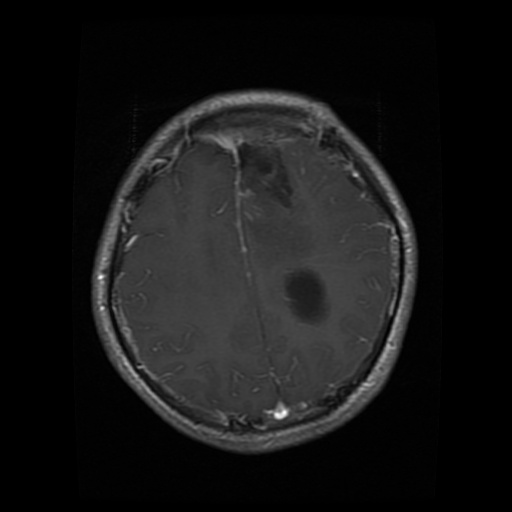glioma: (282, 266, 329, 326)
